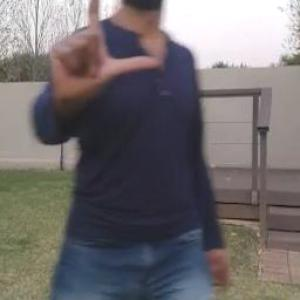land_hand: (42, 0, 166, 107)
